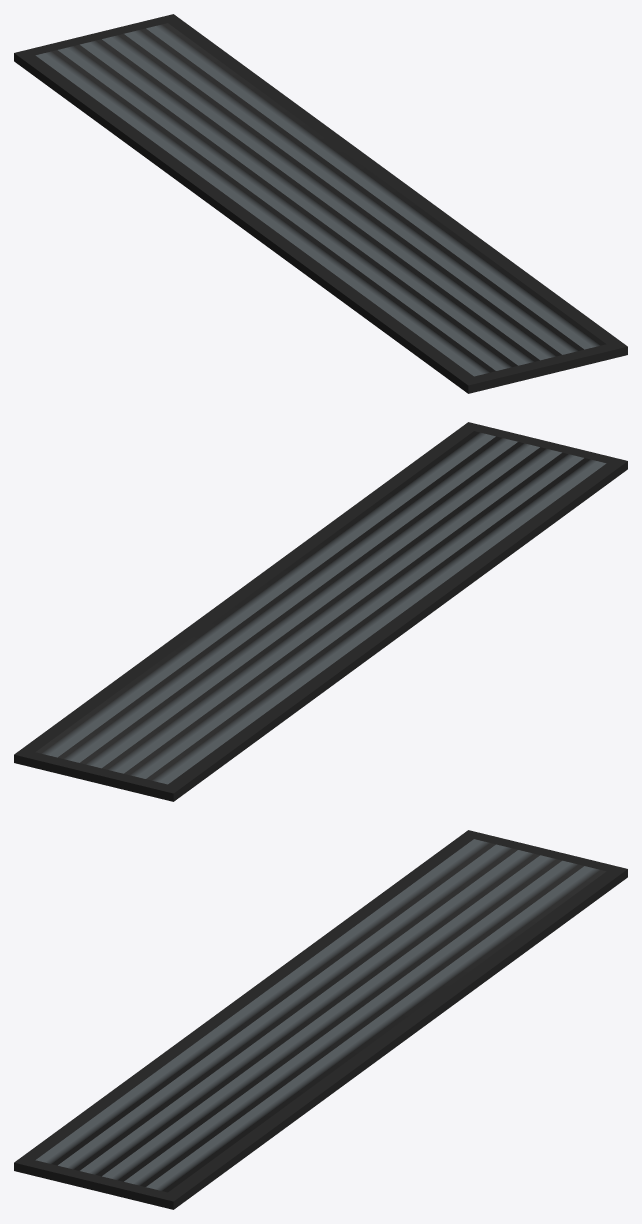
File: street_greeble_3.glb
The picture shows the model from 3 angles, top to bottom: view 1: azimuth 30°, elevation 25°; view 2: azimuth 150°, elevation 25°; view 3: azimuth 330°, elevation 25°; orthographic projection.
Parts seen in each view (by area): view 1: street_greeble_3; view 2: street_greeble_3; view 3: street_greeble_3.
Boxes of the visible parts, x1,y1,x2,y2 form: street_greeble_3: [14, 14, 627, 393]; street_greeble_3: [14, 422, 627, 801]; street_greeble_3: [14, 830, 627, 1209].
Bounding box in the file's own units: 0.4057 × 0.0204 × 2.
Materials: 1 (1 with a texture image).
